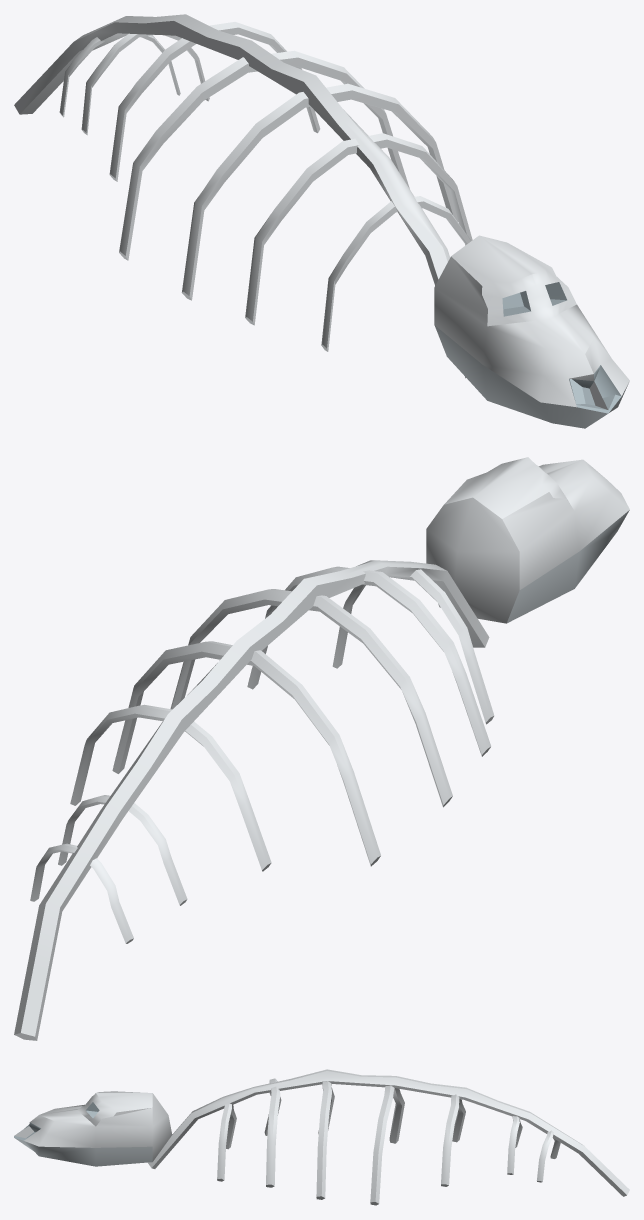
The model's file is bones.glb.
The picture shows the model from 3 angles, top to bottom: view 1: azimuth 30°, elevation 25°; view 2: azimuth 150°, elevation 25°; view 3: azimuth 270°, elevation 25°; orthographic projection. The views are drawn at different scales.
Visible parts, largest first — view 1: skeleton, skull; view 2: skeleton, skull; view 3: skeleton, skull.
Part boxes in pixels (x1,y1,x2,y2): skeleton: [14, 14, 472, 378]; skull: [434, 235, 629, 428]; skeleton: [14, 560, 494, 1040]; skull: [426, 457, 629, 623]; skeleton: [148, 1069, 629, 1205]; skull: [14, 1091, 172, 1166].
Size of what is drawn, in the model's own units: 7.95 by 6.63 by 28.92.
1 material, 1 textured.
